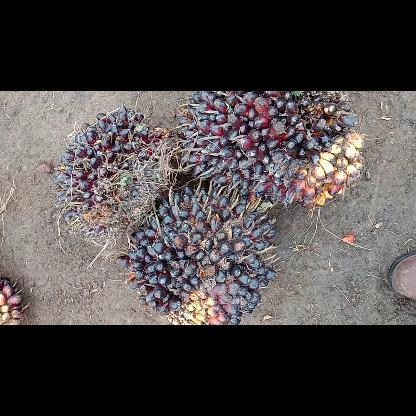TBS mentah: (114, 180, 280, 324), (176, 91, 366, 216), (53, 102, 173, 242)
